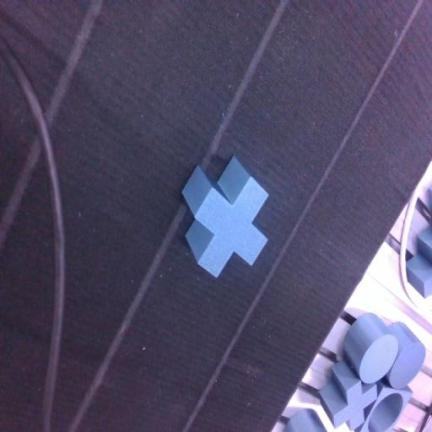cross: (183, 157, 268, 276), (319, 362, 377, 430)
